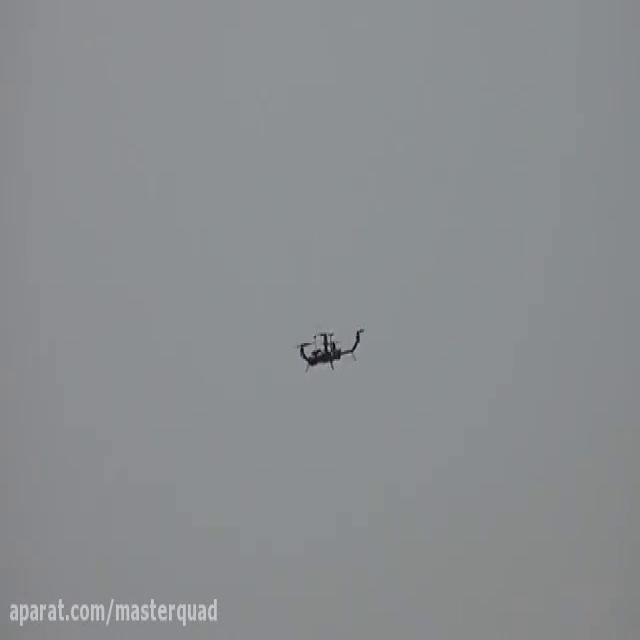drone: (292, 318, 369, 375)
